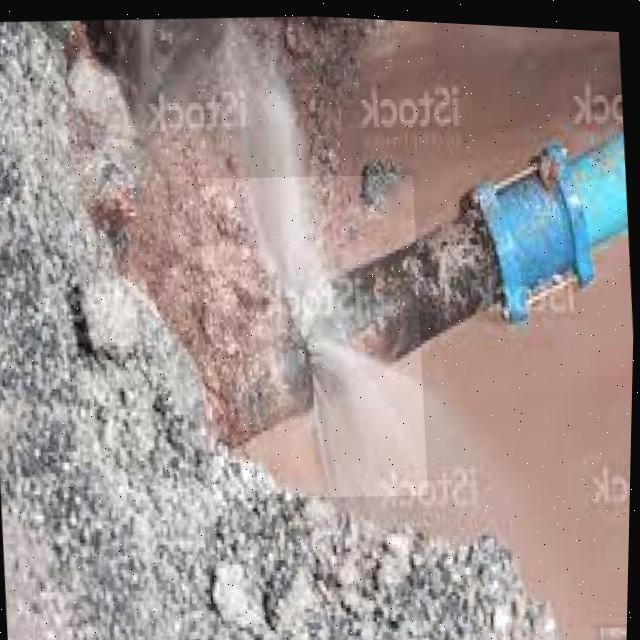corrosion: (263, 260, 407, 427)
